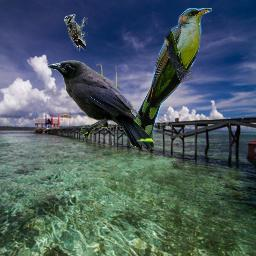Crow: (48, 60, 155, 151)
Cuckoo: (128, 8, 212, 144)
Woodpecker: (64, 14, 88, 51)
